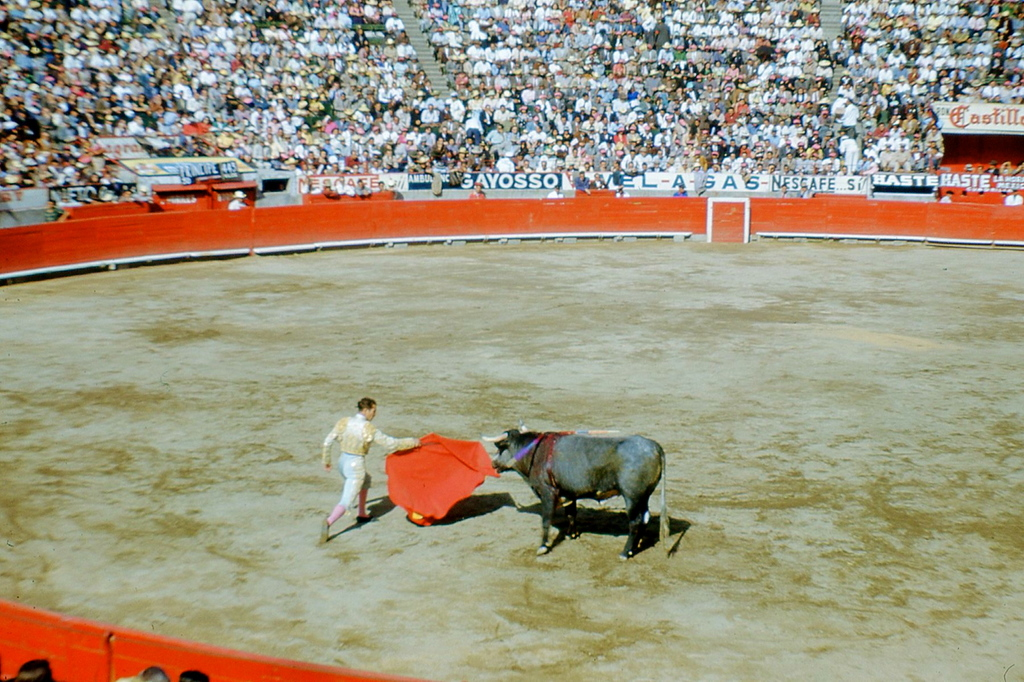person: (320, 395, 422, 526)
